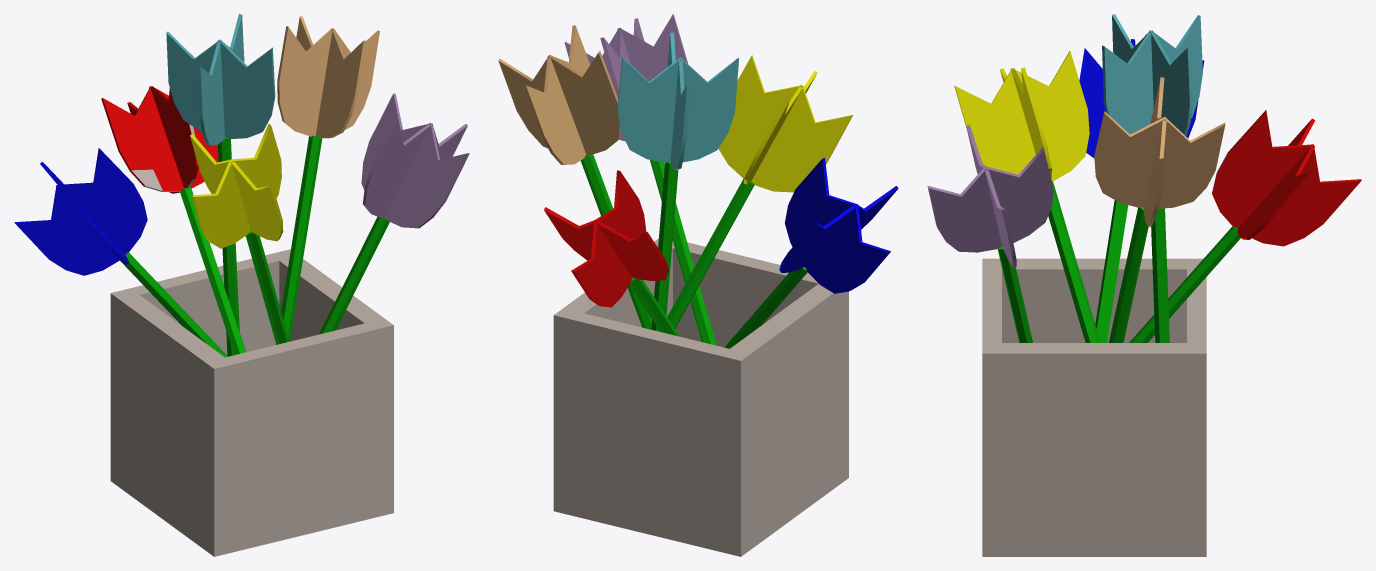
File: FlowersWithColor 1.fbx
The picture shows the model from 3 angles, left to right: view 1: azimuth 30°, elevation 25°; view 2: azimuth 150°, elevation 25°; view 3: azimuth 270°, elevation 25°; orthographic projection. The views are drawn at different scales.
Visible parts, largest first — view 1: pCube5; view 2: pCube5; view 3: pCube5.
Part boxes in pixels (x1,y1,x2,y2): pCube5: [14, 14, 469, 556]; pCube5: [498, 14, 898, 556]; pCube5: [927, 14, 1361, 556].
Size of the model in its own units: 12.15 by 13.45 by 11.03.
